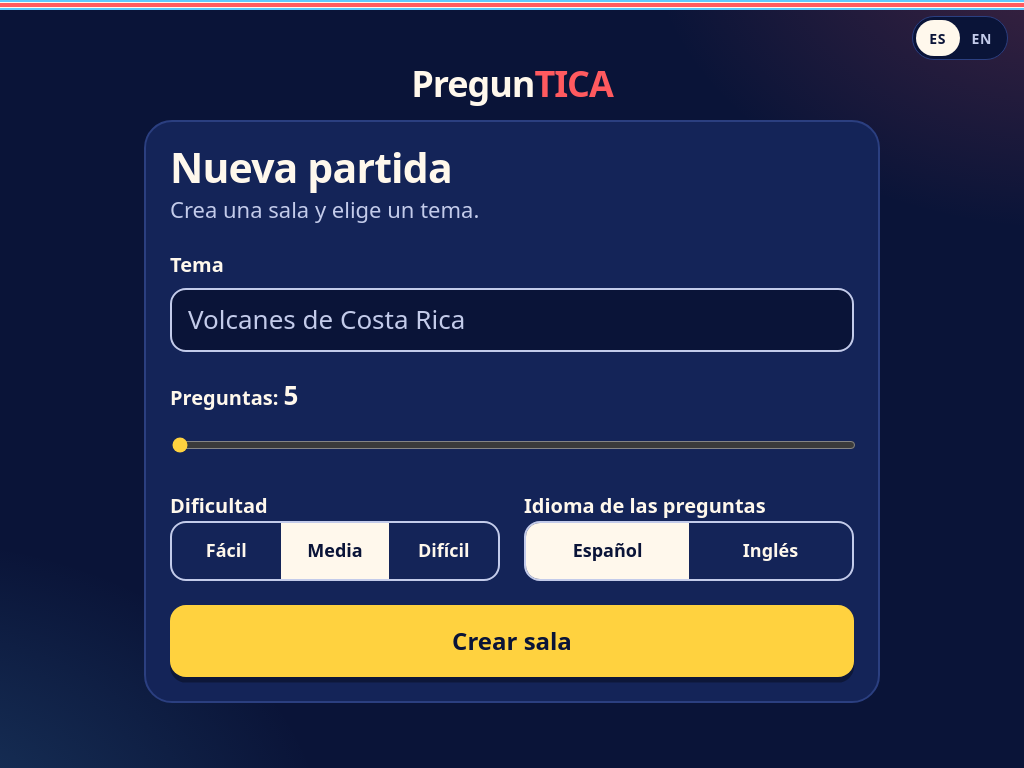
Test: form › TOPIC_REJECTED explains it and brings the form back with the topic still there
In the field labelled "Tema": x=512, y=320 [170, 288, 854, 352], type "Tema prohibido"
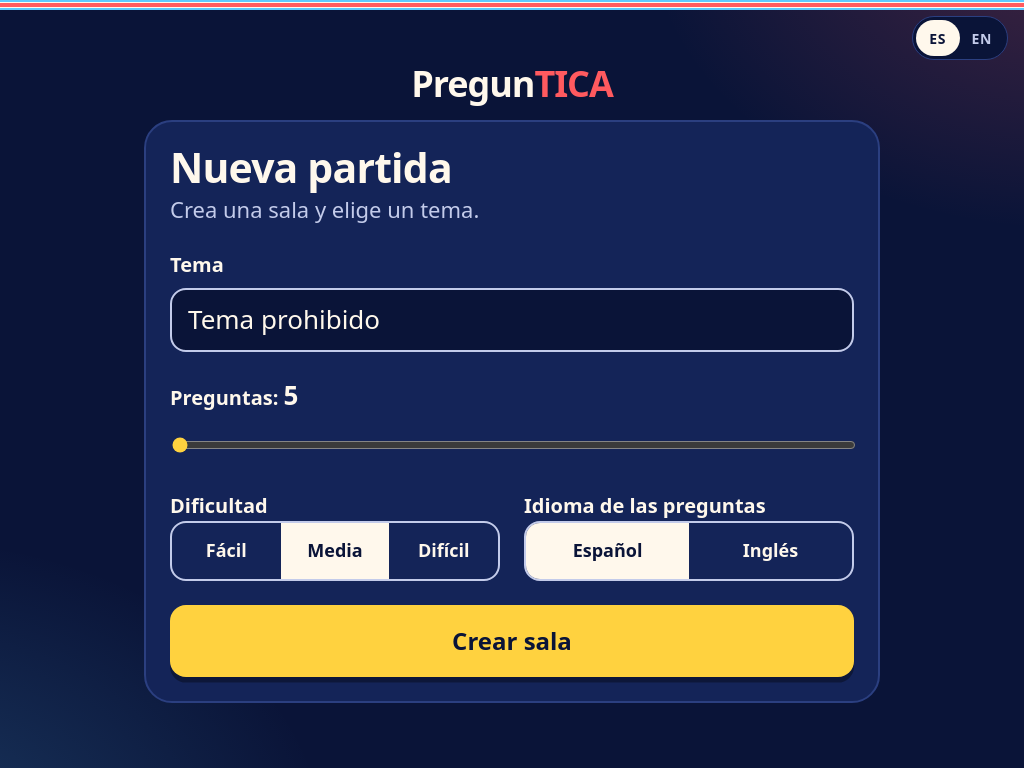
Click the button "Crear sala": x=512, y=640 [170, 604, 854, 676]
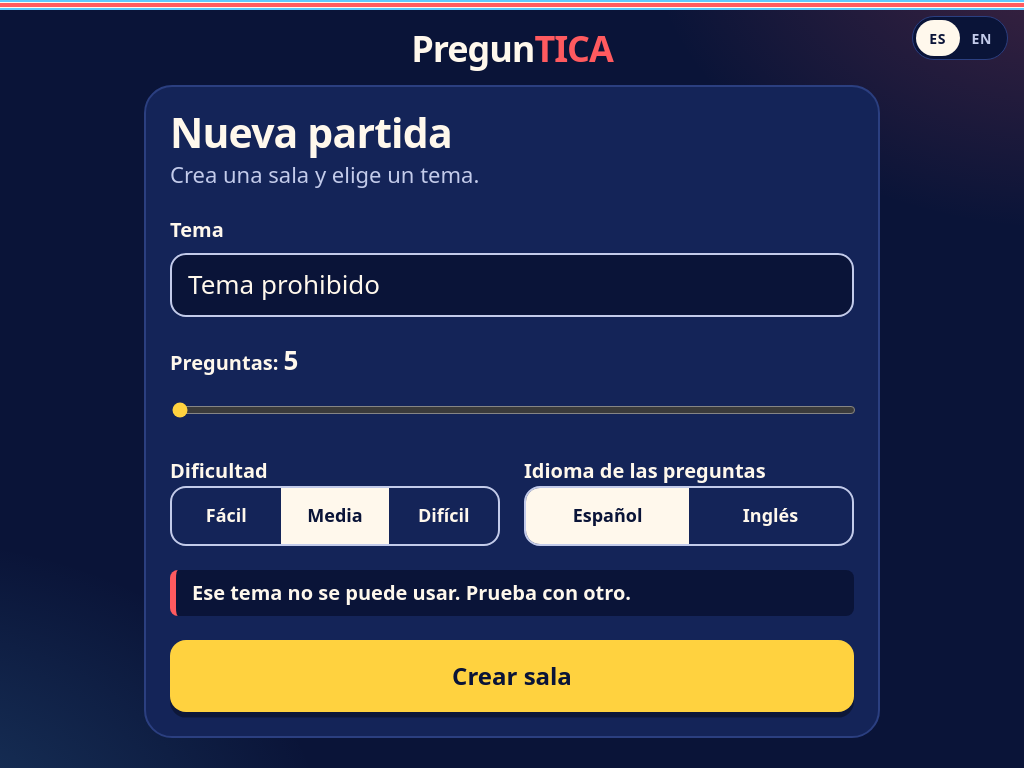
Expected: the field labelled "Tema" holds "Tema prohibido", [170, 252, 854, 316]
Expected: the message shows "Ese tema no se puede usar", [192, 578, 631, 606]
